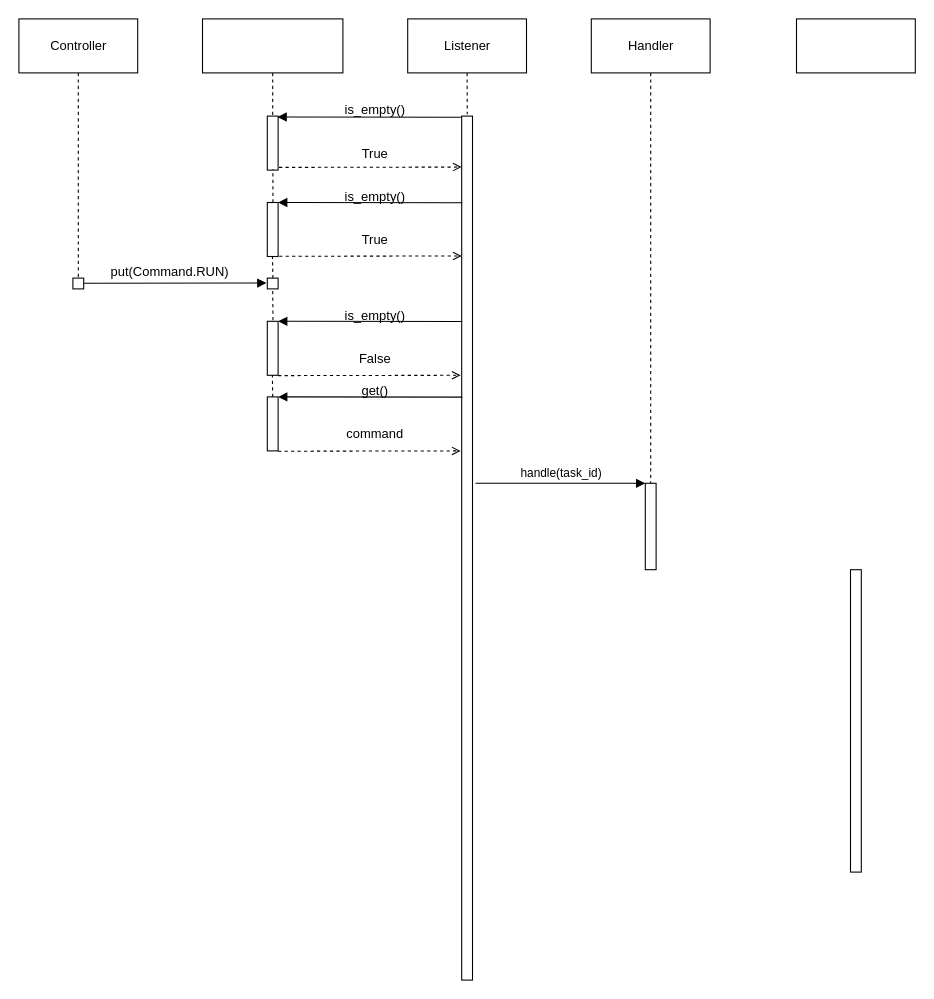
Some shapes in this 934 by 999 pixel diagram are drawn without their labels. The centre of each missing label's shape, as x and y in pixels:
CommandQueue: the point at 272,45
Executor: the point at 855,45
